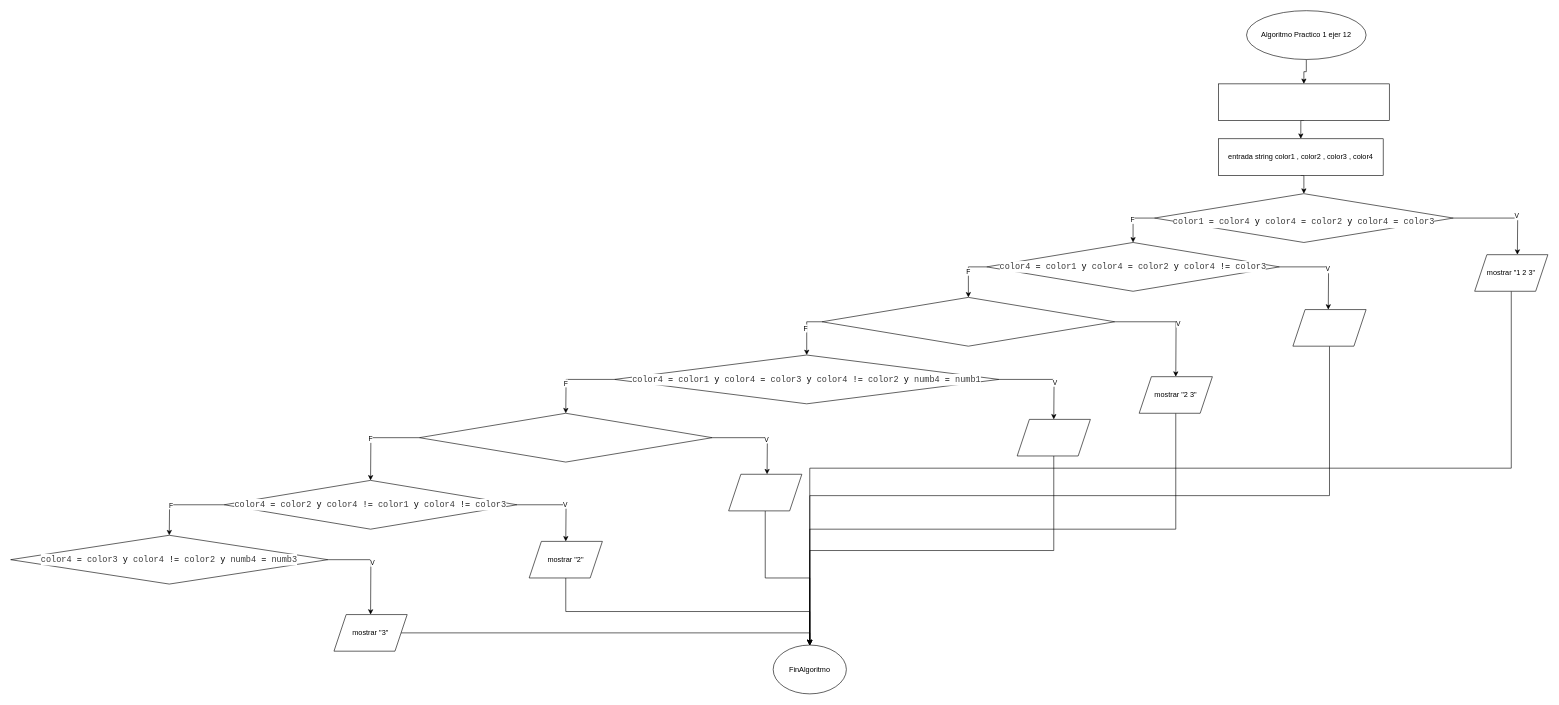
Image size: 1559x705. Some labels were removed from this diagram. Here are the shapes that lost their labels. From the top down, the centre of each, then its label:
point 1303,101: entrada numb1 , numb2 , numb3 , numb4
point 968,321: color4 = color2 y color4 = color3 y color4 != color1
point 1329,327: mostrar "1 2"
point 565,437: color4 = color1 y color4 != color2 y color4 != color3
point 1053,437: mostrar "1 3"
point 765,492: mostrar "1"
